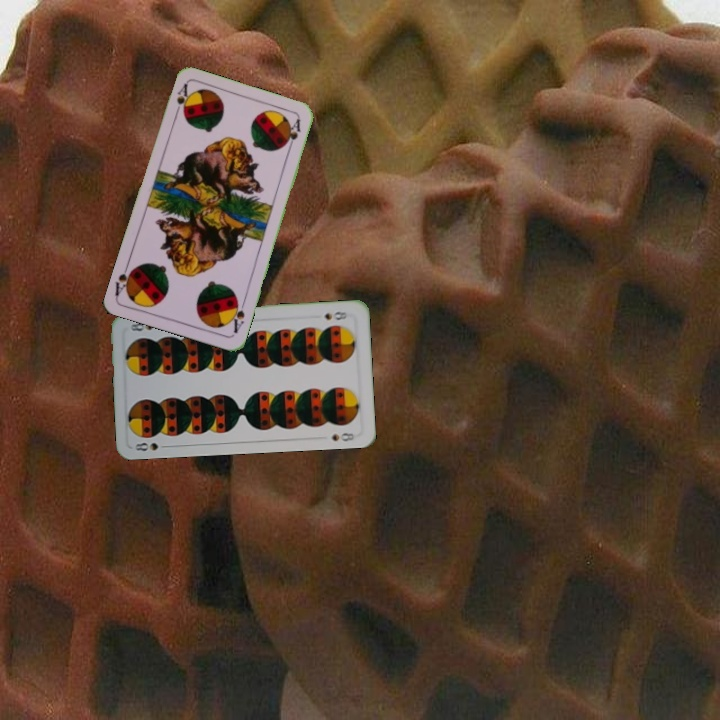S8: (131, 439, 171, 453), (321, 307, 353, 323)
SA: (226, 295, 248, 336), (171, 80, 192, 120)
